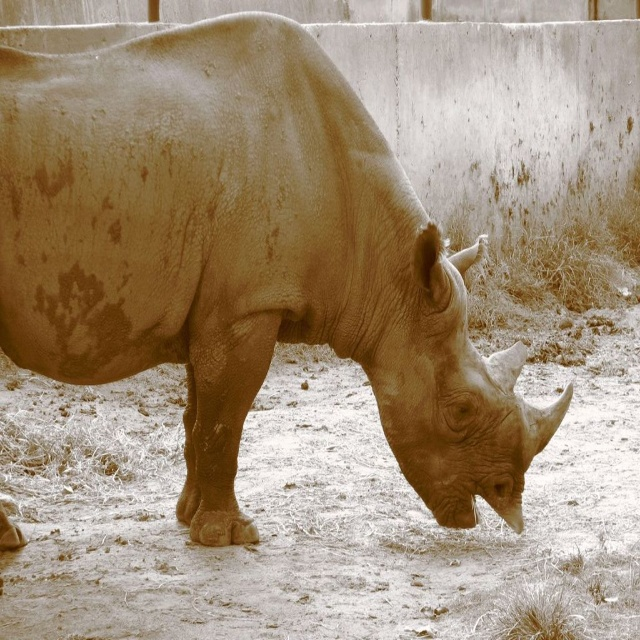Rhinoceros: (0, 9, 574, 552)
